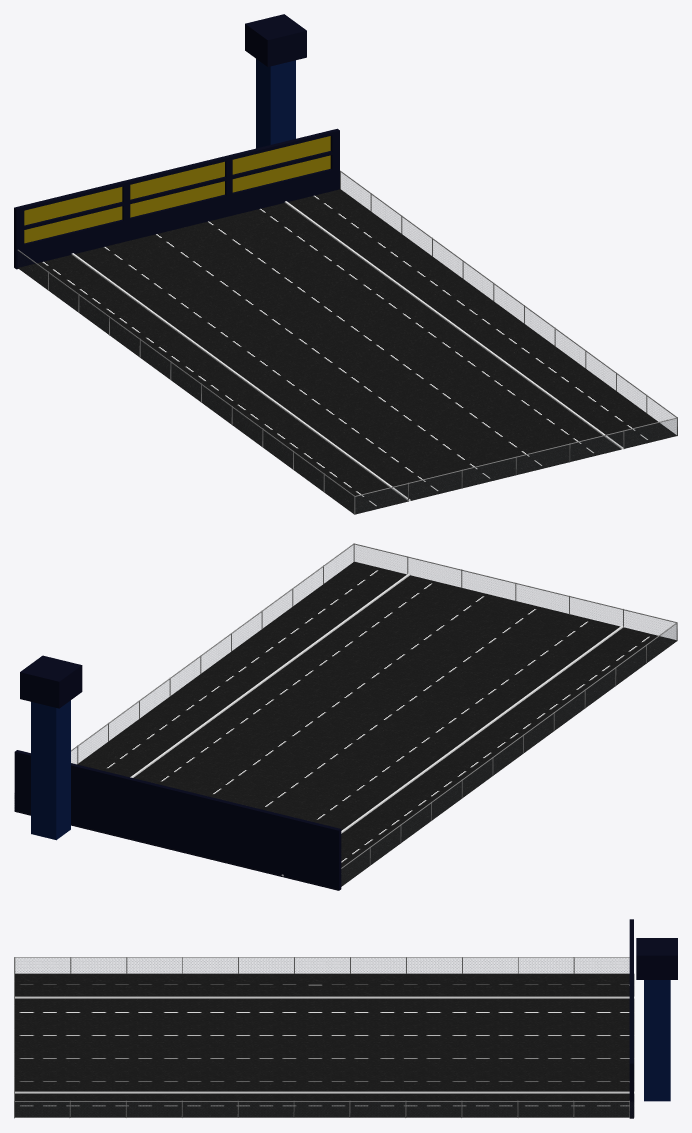
The picture shows the model from 3 angles, top to bottom: view 1: azimuth 30°, elevation 25°; view 2: azimuth 150°, elevation 25°; view 3: azimuth 270°, elevation 25°; orthographic projection. The views are drawn at different scales.
Parts seen in each view (by area): view 1: Floor, Building_1, Fence, Building_2, Rails; view 2: Floor, Building_1, Fence, Building_2, Rails; view 3: Floor, Fence, Building_2, Rails, Building_1.
Part boxes in pixels (x1,y1,x2,y2): Floor: [18, 189, 676, 514]; Building_1: [14, 128, 339, 269]; Fence: [18, 173, 676, 513]; Building_2: [245, 14, 306, 148]; Rails: [17, 170, 677, 514]; Floor: [14, 562, 676, 889]; Building_1: [14, 750, 341, 890]; Fence: [71, 545, 676, 884]; Building_2: [20, 655, 82, 840]; Rails: [71, 543, 677, 868]; Floor: [15, 973, 634, 1117]; Fence: [15, 958, 633, 1117]; Building_2: [636, 938, 677, 1101]; Rails: [14, 957, 629, 1118]; Building_1: [629, 919, 633, 1118].
Size of the model in its own units: 151 by 72.81 by 292.
7 materials, 2 textured.
